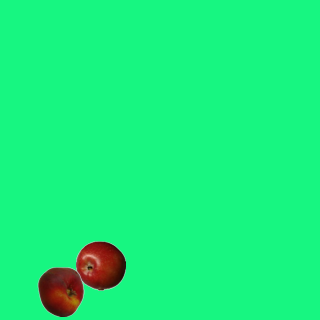Apple Braeburn: (75, 240, 125, 290)
Nectarine Flat: (35, 266, 85, 316)
